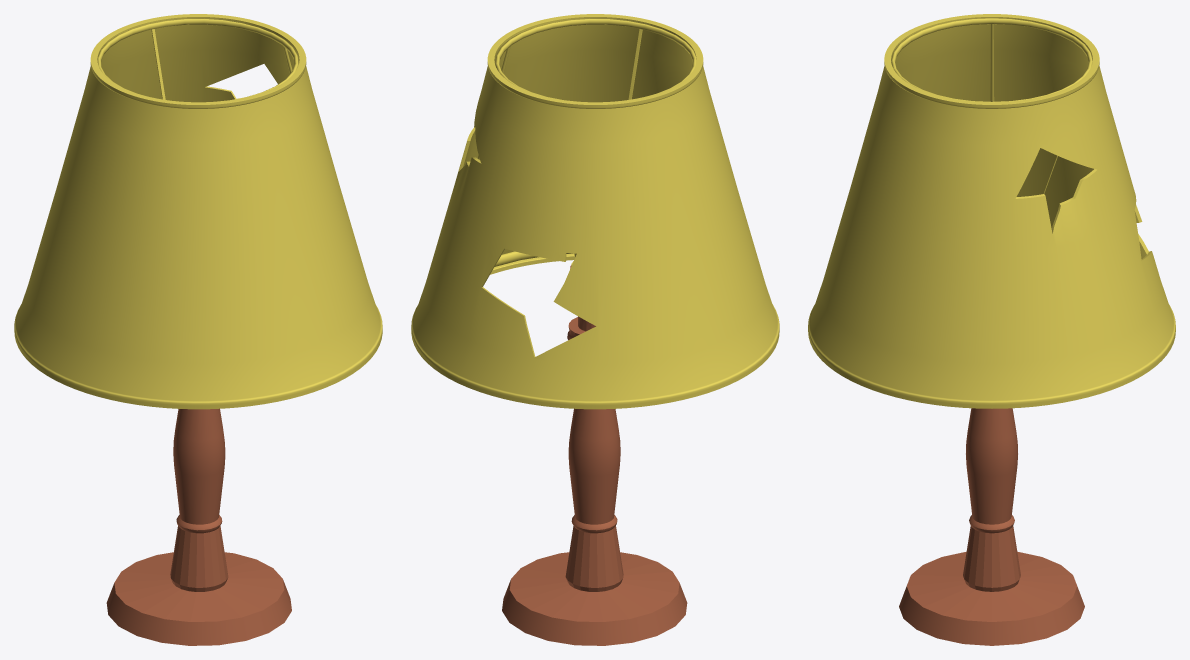
Rendered from velador.fbx.
3 renders of one model, left to right at view 1: azimuth 30°, elevation 25°; view 2: azimuth 150°, elevation 25°; view 3: azimuth 270°, elevation 25°, orthographic.
Parts seen in each view (by area): view 1: pCylinder10, pCylinder1; view 2: pCylinder10, pCylinder1; view 3: pCylinder10, pCylinder1.
Part boxes in pixels (box(x1,y1,x2,y2)): pCylinder10: box(14, 14, 382, 409); pCylinder1: box(106, 408, 291, 645); pCylinder10: box(411, 14, 779, 409); pCylinder1: box(502, 265, 687, 645); pCylinder10: box(808, 14, 1175, 408); pCylinder1: box(899, 408, 1084, 645).
Bounding box in the file's own units: 1.02 × 1.67 × 1.02.
